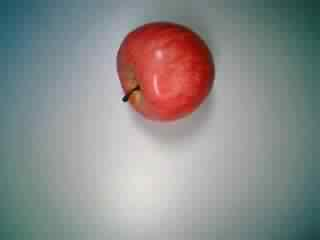apple: (113, 22, 217, 123)
